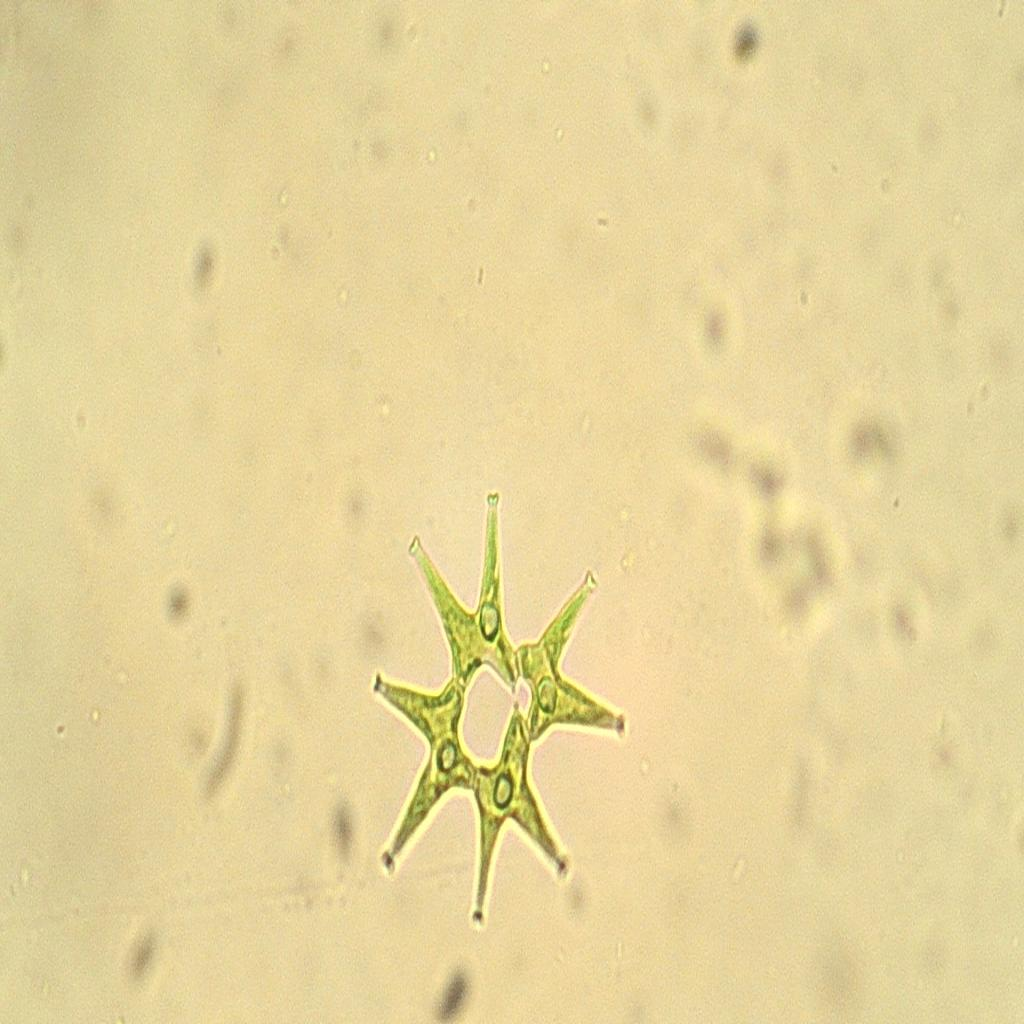Pediastrum_CF: (356, 484, 630, 933)
